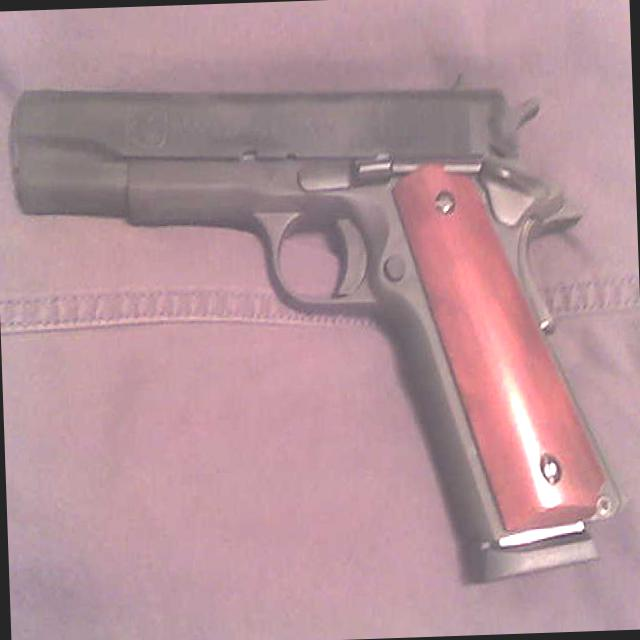handgun: (4, 62, 619, 591)
